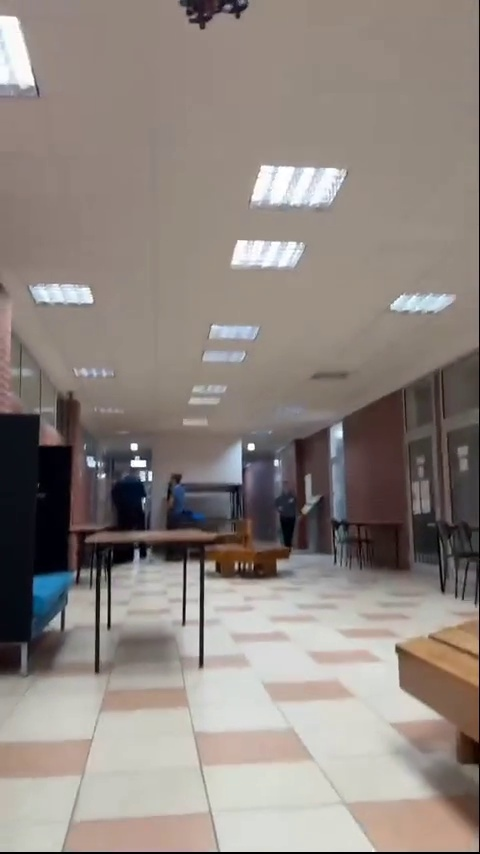drone: (182, 0, 251, 31)
no vest: (107, 463, 159, 539), (161, 461, 201, 530), (270, 473, 304, 553)
